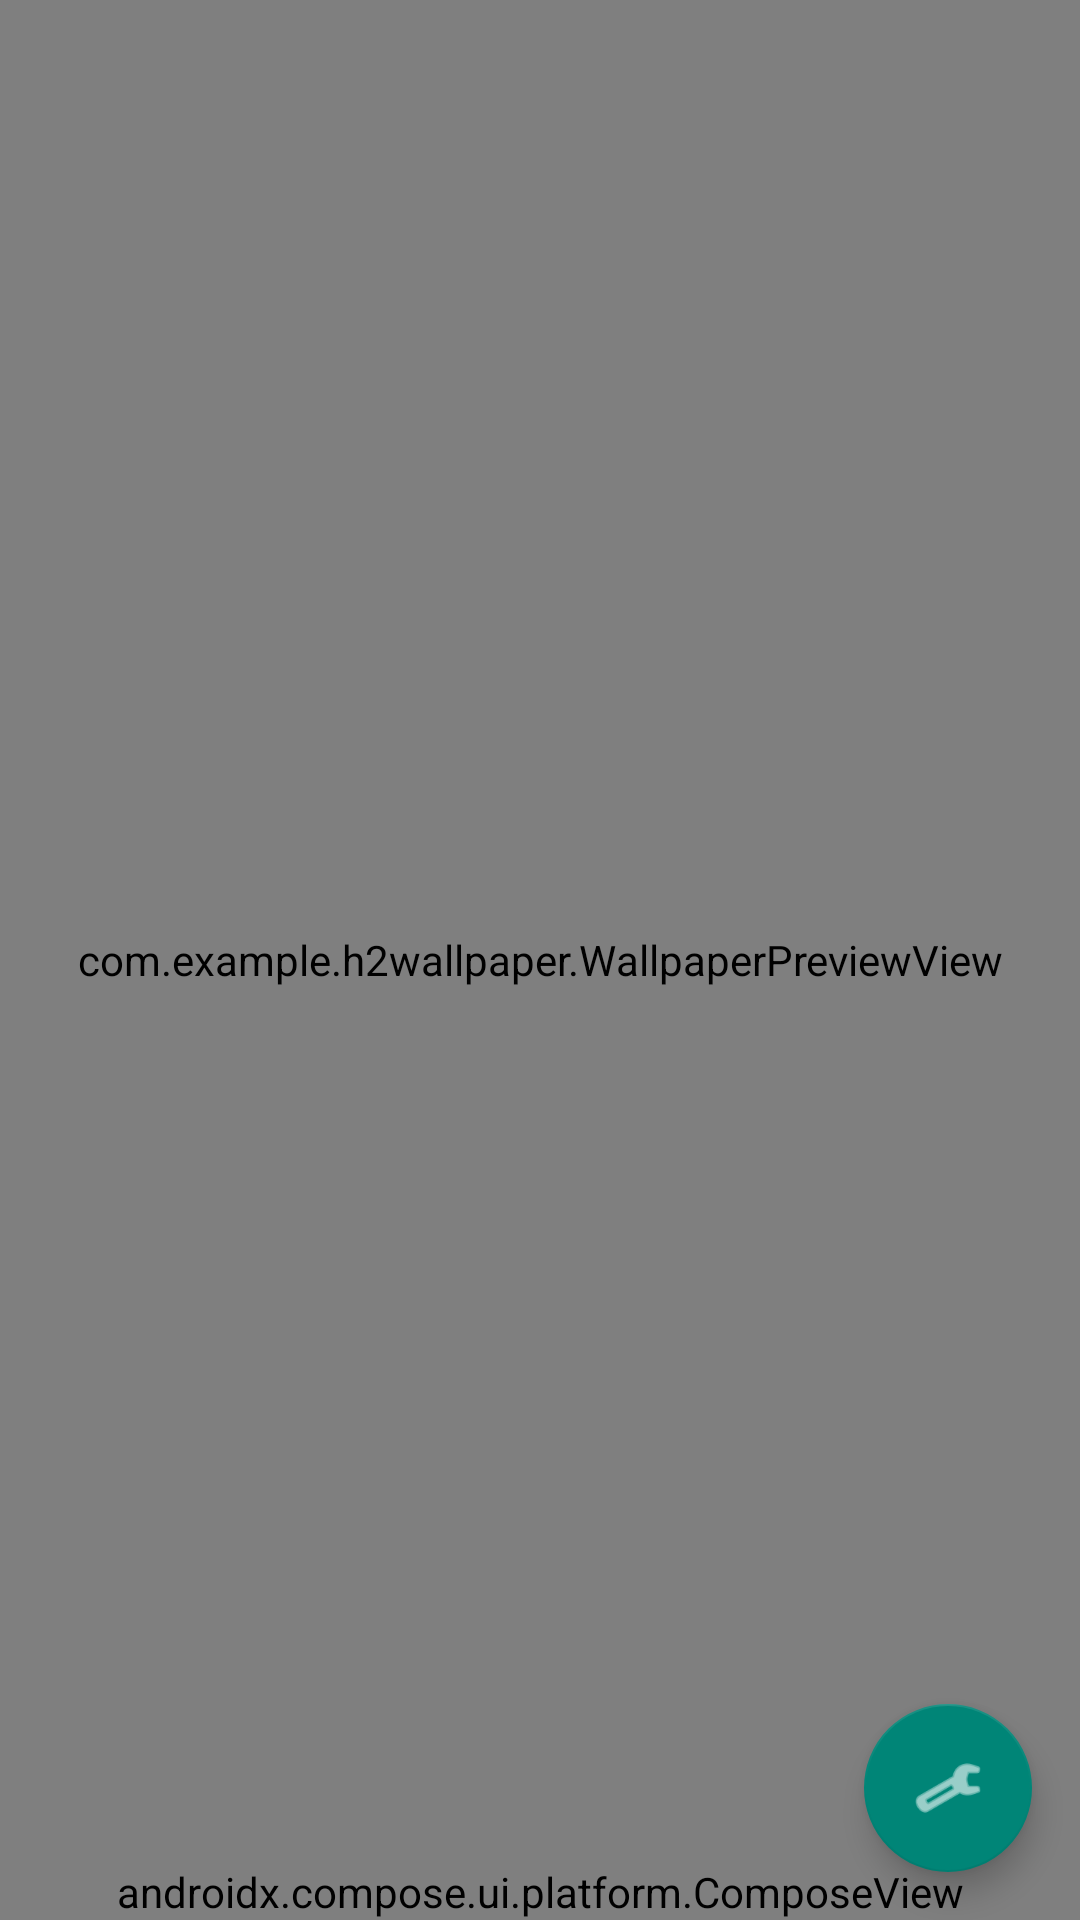

Point at icon controls on the screen. Image size 1080x1920, points as (x=x, y=y).
打开配置选项: (x=948, y=1788)
